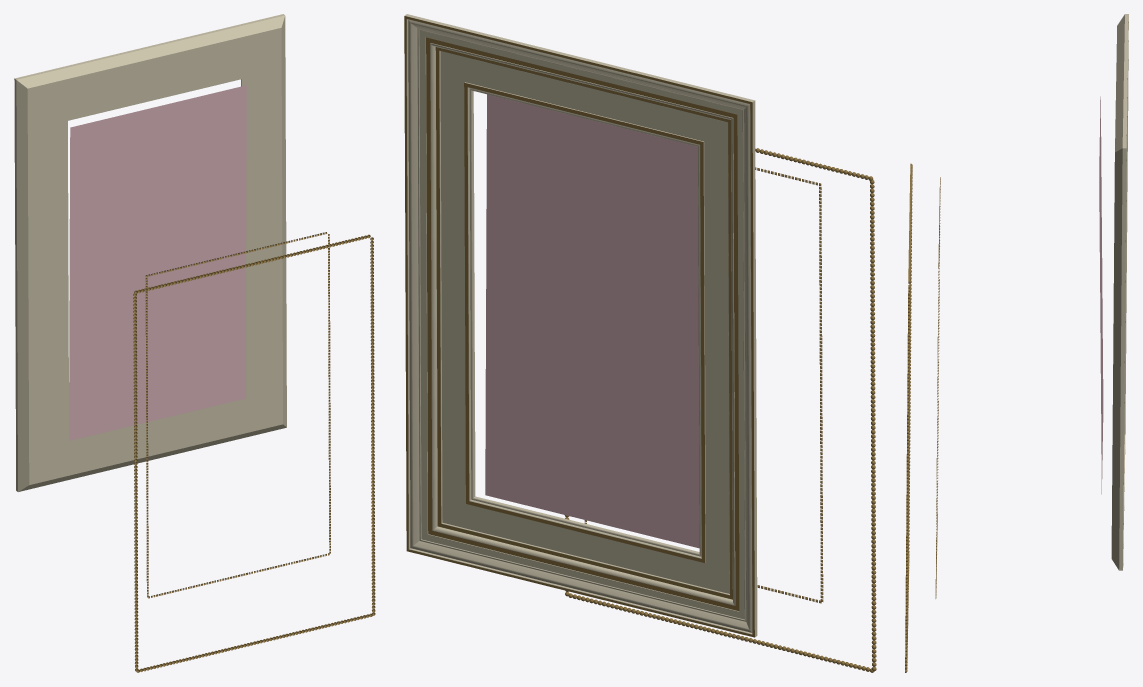
The model's file is frames1.fbx.
The picture shows the model from 3 angles, left to right: view 1: azimuth 30°, elevation 25°; view 2: azimuth 150°, elevation 25°; view 3: azimuth 270°, elevation 25°; orthographic projection. The views are drawn at different scales.
Parts seen in each view (by area): view 1: Rectangle0, Plane01, Sphere187, Plane187; view 2: Rectangle0, Plane01, Sphere187, Plane187; view 3: Rectangle0, Sphere187, Plane01, Plane187.
Part boxes in pixels (x1,y1,x2,y2): Rectangle0: [14, 14, 286, 491]; Plane01: [69, 85, 246, 440]; Sphere187: [133, 234, 375, 672]; Plane187: [145, 232, 330, 598]; Rectangle0: [404, 14, 757, 637]; Plane01: [485, 94, 699, 548]; Sphere187: [564, 148, 876, 672]; Plane187: [584, 167, 823, 603]; Rectangle0: [1111, 14, 1128, 570]; Sphere187: [905, 163, 912, 672]; Plane01: [1099, 96, 1103, 494]; Plane187: [935, 177, 940, 598].
Bounding box in the file's own units: 422 × 781 × 297.
